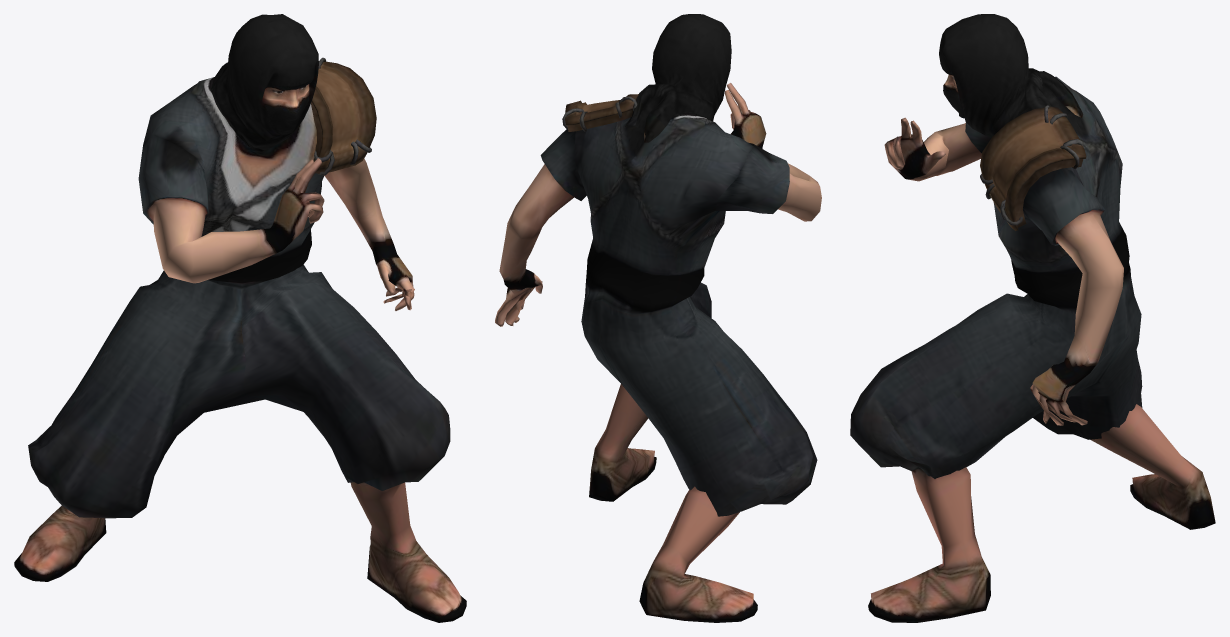
The model's file is 33-shinobi.glb.
The picture shows the model from 3 angles, left to right: view 1: azimuth 30°, elevation 25°; view 2: azimuth 150°, elevation 25°; view 3: azimuth 270°, elevation 25°; orthographic projection. The views are drawn at different scales.
Size of the model in its own units: 1.11 by 1.7 by 1.04.
1 material, 1 textured.
